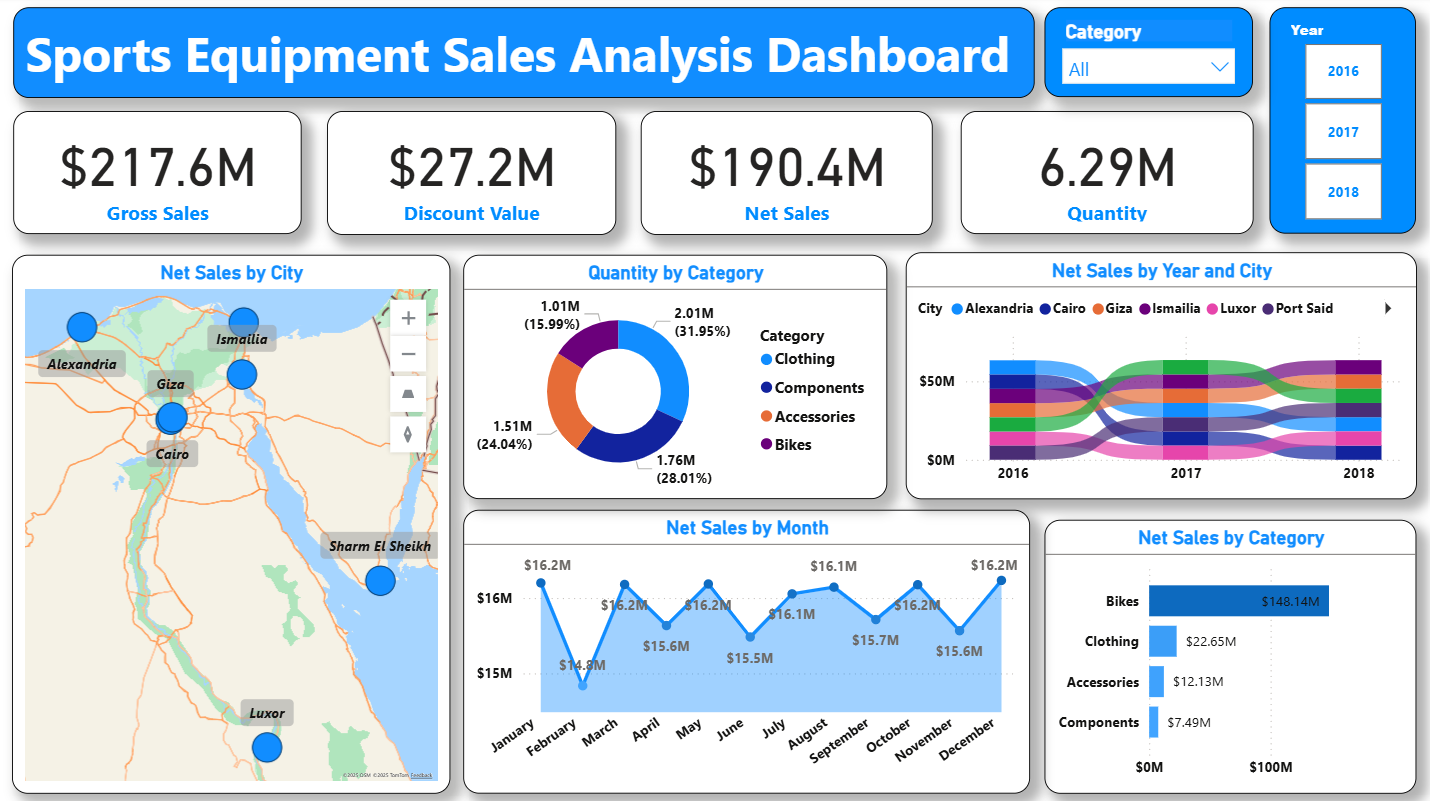

The dashboard page shown, as its layout file describes it:
{"tool":"powerbi","page":{"name":"Sports_Sales_Dashboard","canvas":[1280,720],"ordinal":0},"visuals":[{"type":"textbox","box":[14.5,9.7,909.7,80.8],"z":0},{"type":"card","fields":{"Values":["SalesT.Gross_Sales"]},"box":[14.5,102.5,257,109.8],"z":1000},{"type":"card","fields":{"Values":["Location.Disc._Value"]},"box":[293.8,102.5,257.5,110],"z":2000},{"type":"card","fields":{"Values":["Location.Net_Sales"]},"box":[573.8,102.5,260,110],"z":3000},{"type":"card","fields":{"Values":["Sum(SalesT.Quantity)"]},"box":[857.8,102.5,260.6,109.8],"z":4000},{"type":"clusteredBarChart","fields":{"Category":["Product.Category"],"Y":["SalesT.Net_Sales"]},"box":[932.5,466.2,331.2,243.8],"z":5000},{"type":"map","fields":{"Size":["SalesT.Net_Sales"],"Category":["Location.City"]},"box":[13.3,230,390,480],"z":6000},{"type":"lineChart","fields":{"Y":["SalesT.Net_Sales"],"Category":["SalesT.Date.Variation.Date Hierarchy.Year","SalesT.Date.Variation.Date Hierarchy.Month"]},"box":[415,457.5,505,252.5],"z":7000},{"type":"ribbonChart","fields":{"Category":["SalesT.Date.Variation.Date Hierarchy.Year"],"Y":["SalesT.Net_Sales"],"Series":["Location.City"]},"box":[808.8,228.8,455,220],"z":8000},{"type":"slicer","fields":{"Values":["SalesT.Date.Variation.Date Hierarchy.Year"]},"box":[1133.3,10,130,201.7],"z":9000},{"type":"slicer","fields":{"Values":["Product.Category"]},"box":[932.6,9.7,185.8,79.6],"z":10000},{"type":"donutChart","title":"Quantity by Category","fields":{"Category":["Product.Category"],"Y":["Sum(SalesT.Quantity)"]},"box":[415,230,377.5,217.5],"z":12000}]}

Visuals, with their boxes in screenshot pixels (x1, y1, x2, y2), scaled from the page's 1280x720 canvas onto the 1430x801 screenshot:
textbox: crop(16, 11, 1033, 101)
card - SalesT.Gross_Sales: crop(16, 114, 303, 236)
card - Location.Disc._Value: crop(328, 114, 616, 236)
card - Location.Net_Sales: crop(641, 114, 932, 236)
card - Sum(SalesT.Quantity): crop(958, 114, 1249, 236)
clusteredBarChart - Product.Category x SalesT.Net_Sales: crop(1042, 519, 1412, 790)
map - SalesT.Net_Sales x Location.City: crop(15, 256, 451, 790)
lineChart - SalesT.Net_Sales x SalesT.Date.Variation.Date Hierarchy.Year: crop(464, 509, 1028, 790)
ribbonChart - SalesT.Date.Variation.Date Hierarchy.Year x SalesT.Net_Sales: crop(904, 255, 1412, 499)
slicer - SalesT.Date.Variation.Date Hierarchy.Year: crop(1266, 11, 1411, 236)
slicer - Product.Category: crop(1042, 11, 1249, 99)
"Quantity by Category" donutChart: crop(464, 256, 885, 498)
